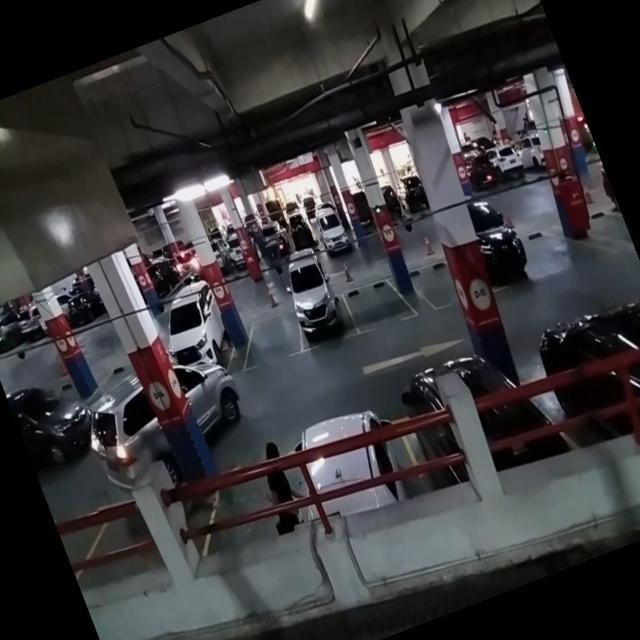empty: (337, 262, 416, 339), (236, 304, 307, 372), (407, 252, 465, 317)
occupied: (282, 260, 359, 352)
